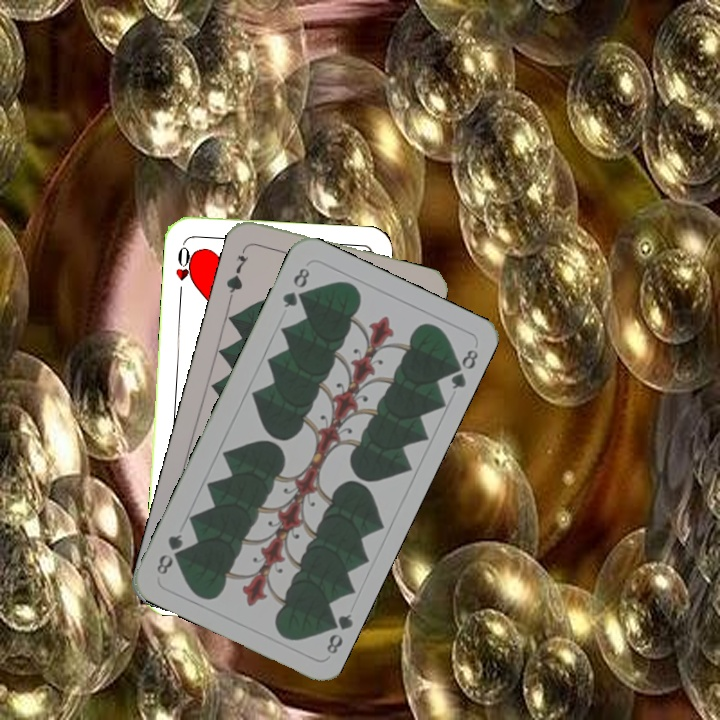G7: (222, 243, 251, 300)
G8: (320, 609, 356, 657), (278, 263, 312, 311)
HO: (171, 240, 197, 299)
